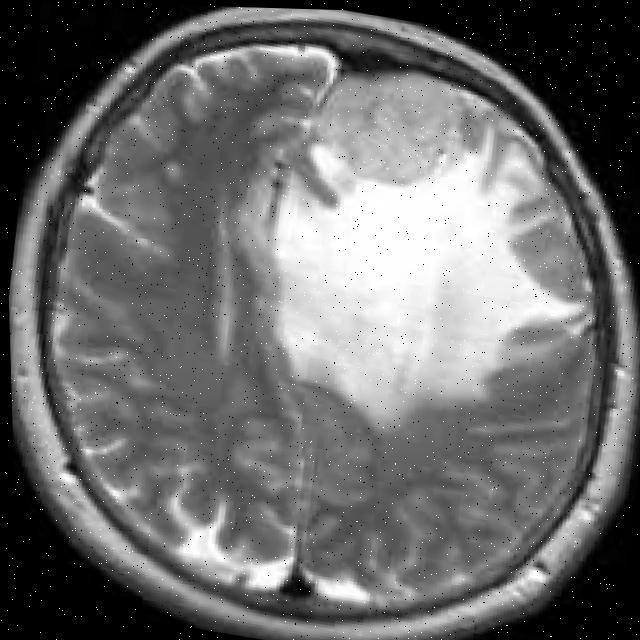Meningioma: (250, 107, 611, 451)
